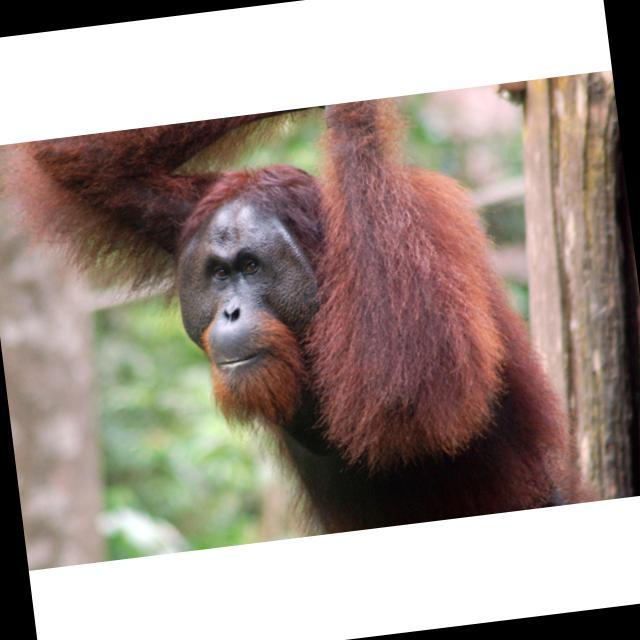Orangutan: (93, 112, 568, 521)
